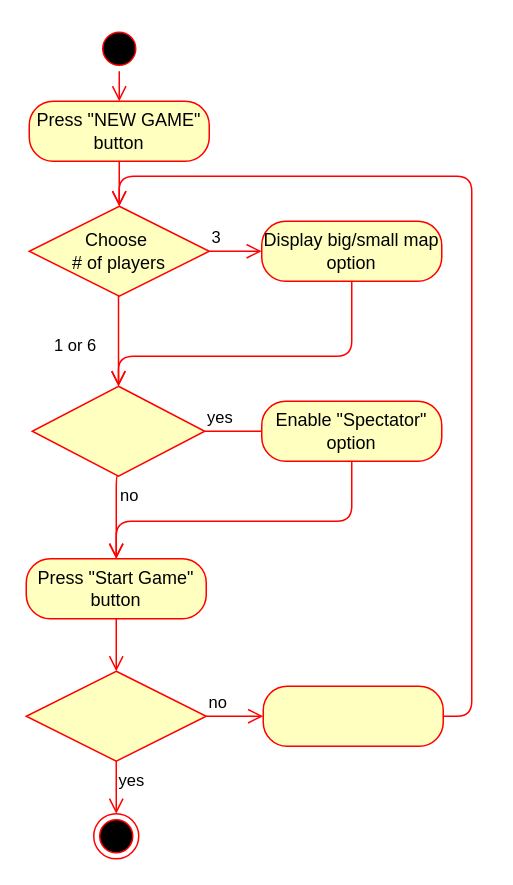
The diagram is 513 pixels wide and 885 high, and some of its shapes have lost their labels. The centre of each missing label's shape, as x and y in pixels:
"0 human players?" goes at (118,430).
"Display error message" goes at (352,715).
"Required options selected?" goes at (115,715).
